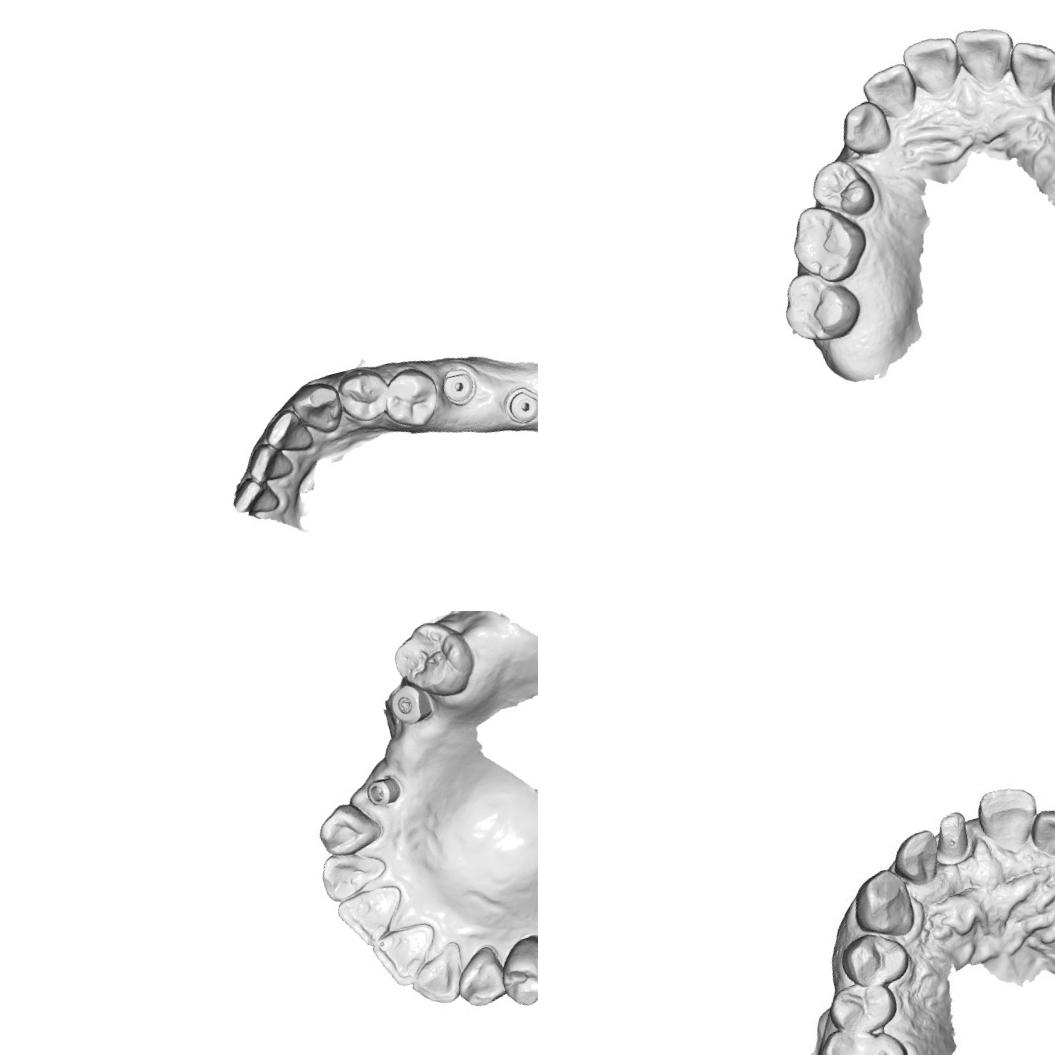canine: (844, 861, 926, 944), (312, 795, 386, 860), (283, 374, 349, 442), (448, 942, 510, 1013), (834, 96, 896, 161), (1042, 61, 1055, 125)
implant: (385, 678, 436, 728), (436, 360, 482, 410), (498, 380, 538, 428), (362, 772, 405, 809)
incisor: (332, 880, 414, 952), (368, 918, 446, 993), (951, 17, 1022, 92), (898, 29, 968, 102), (402, 939, 472, 1012), (316, 842, 392, 904), (972, 781, 1040, 850), (858, 59, 923, 126), (256, 402, 318, 463), (890, 825, 948, 890), (927, 800, 982, 866), (1003, 32, 1055, 100), (239, 432, 297, 488), (225, 471, 284, 526), (1025, 803, 1055, 858)
molar: (778, 193, 876, 291), (385, 611, 480, 708), (772, 260, 866, 349), (818, 1018, 912, 1055)
premolar: (373, 362, 447, 438), (806, 153, 878, 227), (329, 361, 397, 429), (827, 978, 896, 1041), (841, 929, 910, 992), (492, 931, 538, 1009)
